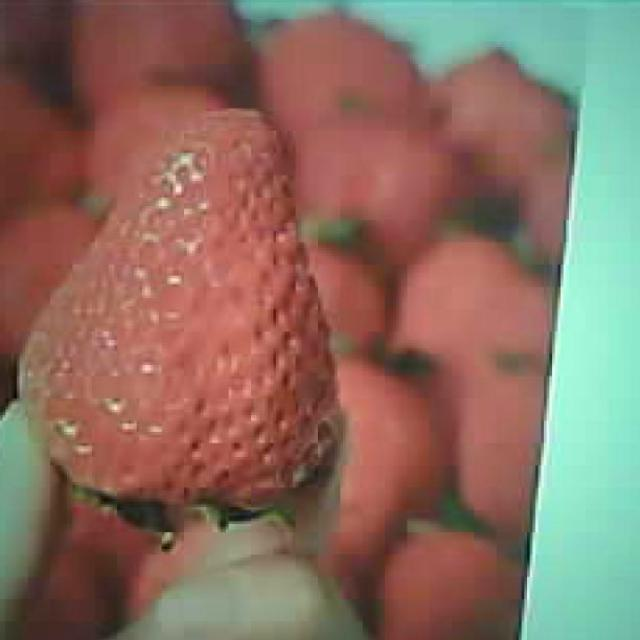Healthy Fruit: (20, 105, 343, 513)
